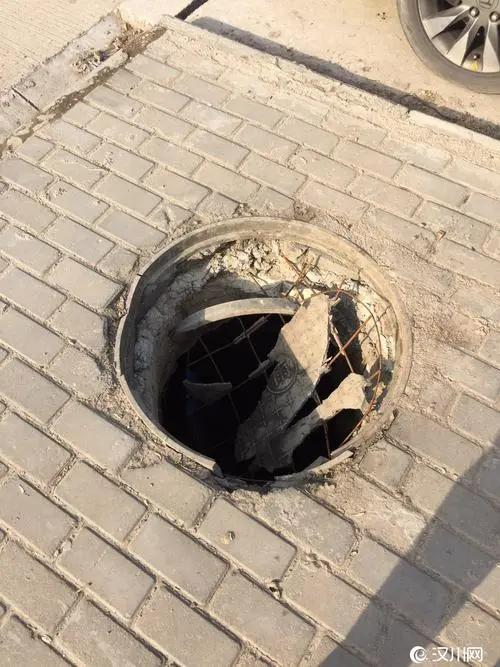wellcover: (97, 219, 437, 488)
